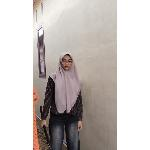Pedang: (39, 102, 53, 150)
